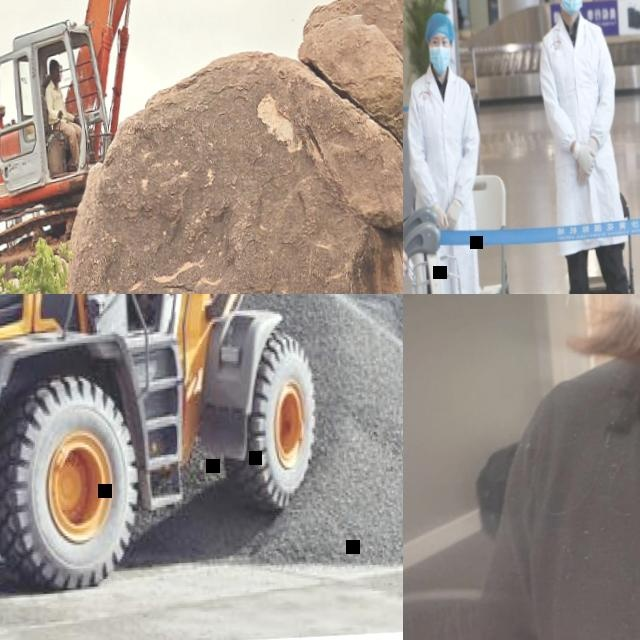Mask: (429, 45, 452, 76), (558, 0, 583, 15)
NO-Hardhat: (425, 10, 456, 38), (48, 56, 63, 72)
NO-Mask: (52, 74, 63, 85)
NO-Safety Vest: (519, 306, 640, 640), (548, 23, 616, 209), (410, 78, 477, 222), (49, 86, 67, 122)
Person: (437, 294, 640, 640), (532, 0, 640, 294), (403, 8, 494, 294), (44, 54, 87, 169)
machinery: (0, 294, 403, 604), (0, 0, 403, 294)
